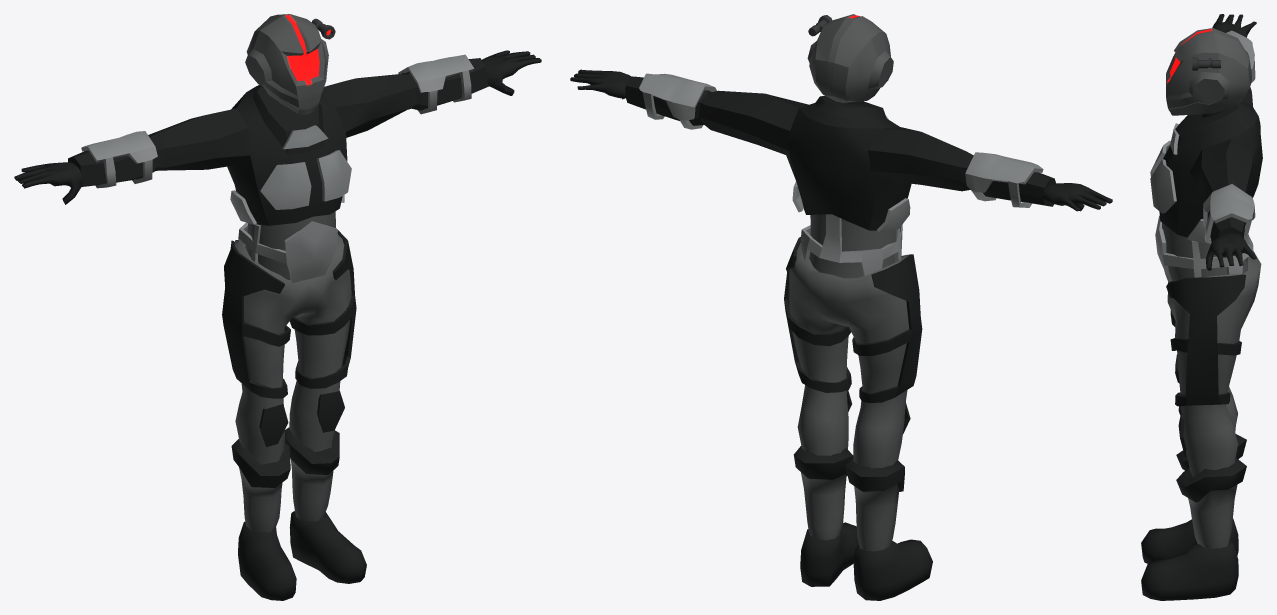
The model's file is marine_red.gltf.
3 renders of one model, left to right at view 1: azimuth 30°, elevation 25°; view 2: azimuth 150°, elevation 25°; view 3: azimuth 270°, elevation 25°, orthographic. The views are drawn at different scales.
Visible parts, largest first — view 1: pasted__polySurface1952, polySurface1296, polySurface1298, polySurface1308, polySurface1310, polySurface1307, polySurface1301, polySurface1313, polySurface1304, polySurface1309, polySurface1300, pCylinder1; view 2: pasted__polySurface1952, polySurface1296, polySurface1310, polySurface1308, polySurface1298, polySurface1307, polySurface1301, pCylinder1, polySurface1309, polySurface1304, polySurface1313; view 3: pasted__polySurface1952, polySurface1296, polySurface1308, polySurface1298, polySurface1307, polySurface1310, polySurface1301, polySurface1309, polySurface1304, polySurface1313, pCylinder1, pCylinder3 (+2 smaller).
Boxes of the visible parts, box(x1,y1,x2,y2) form: pasted__polySurface1952: box(68, 58, 488, 225); polySurface1296: box(234, 234, 351, 464); polySurface1298: box(222, 228, 356, 398); polySurface1308: box(238, 511, 366, 600); polySurface1310: box(231, 427, 339, 532); polySurface1307: box(245, 14, 328, 114); polySurface1301: box(81, 54, 474, 188); polySurface1313: box(230, 150, 351, 224); polySurface1304: box(238, 221, 337, 282); polySurface1309: box(14, 50, 541, 204); polySurface1300: box(259, 391, 344, 446); pCylinder1: box(245, 211, 335, 279); pasted__polySurface1952: box(625, 76, 1055, 230); polySurface1296: box(789, 242, 909, 468); polySurface1310: box(793, 446, 904, 551); polySurface1308: box(800, 522, 932, 600); polySurface1298: box(784, 237, 922, 402); polySurface1307: box(807, 14, 893, 104); polySurface1301: box(639, 73, 1043, 207); pCylinder1: box(809, 214, 901, 278); polySurface1309: box(570, 69, 1112, 211); polySurface1304: box(800, 214, 902, 275); polySurface1313: box(792, 181, 910, 231); pasted__polySurface1952: box(1159, 30, 1262, 241); polySurface1296: box(1167, 251, 1261, 477); polySurface1308: box(1141, 519, 1238, 600); polySurface1298: box(1166, 274, 1245, 406); polySurface1307: box(1166, 28, 1251, 117); polySurface1310: box(1176, 433, 1246, 549); polySurface1301: box(1203, 30, 1255, 243); polySurface1309: box(1205, 14, 1256, 270); polySurface1304: box(1155, 216, 1253, 282); polySurface1313: box(1150, 140, 1210, 244); pCylinder1: box(1162, 223, 1247, 280); pCylinder3: box(1192, 57, 1220, 70).
Size of the model in its own units: 1.79 by 1.82 by 0.3684.
Materials: 1 (1 with a texture image).
